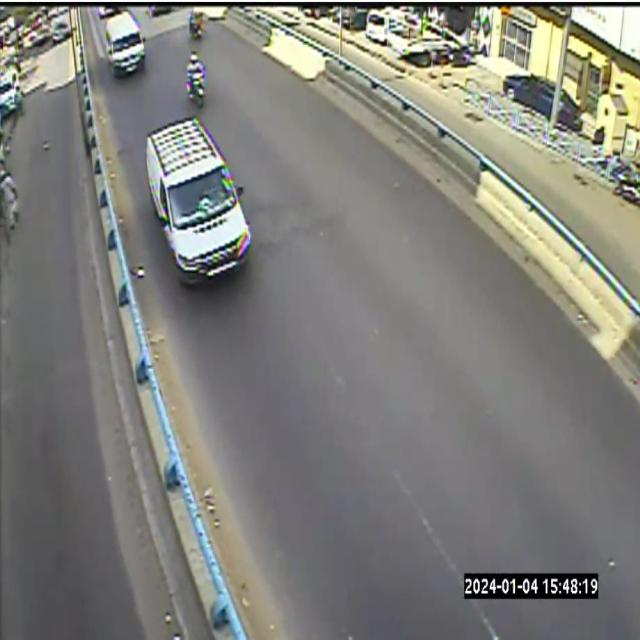car: (147, 115, 255, 298), (146, 119, 250, 283)
